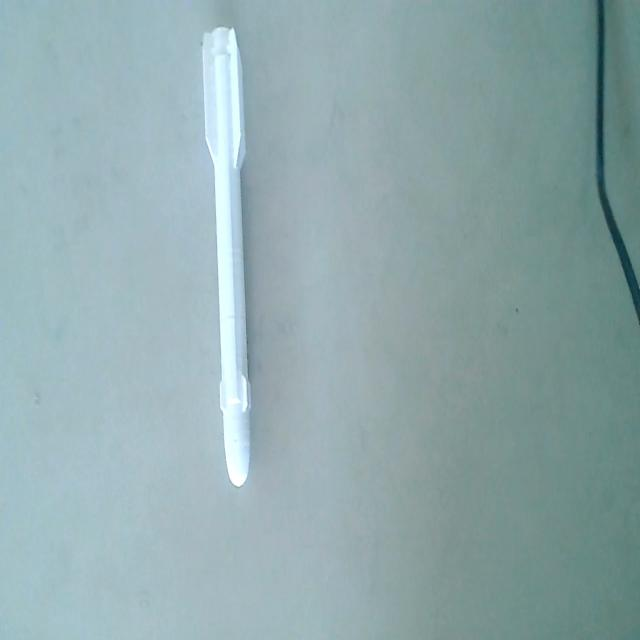Rocket: (202, 17, 254, 492)
